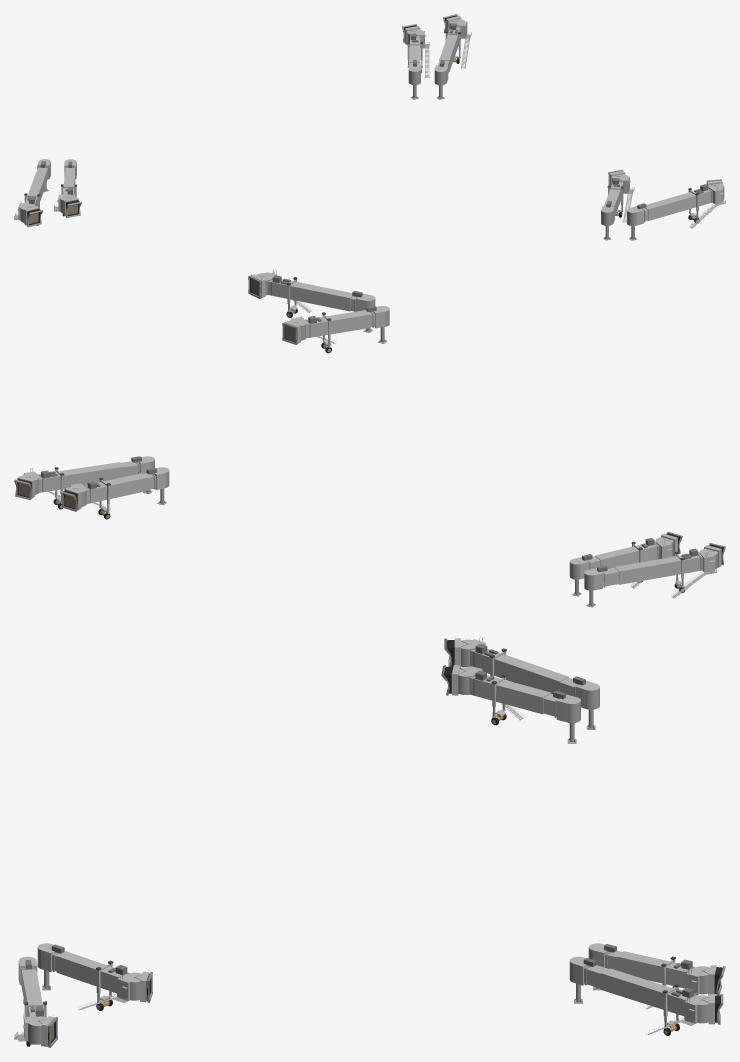
Rendered from AirportJetbridge_L1.fbx.
3 renders of one model, top to bottom at view 1: azimuth 30°, elevation 25°; view 2: azimuth 150°, elevation 25°; view 3: azimuth 270°, elevation 25°, orthographic. The views are drawn at different scales.
Visible parts, largest first — view 1: AirportJetbridge_Long_Model_L1.209, AirportJetbridge_Long_Model_L1.207, AirportJetbridge_Short_Model_L1.209, AirportJetbridge_Short_Model_L1.207, AirportJetbridge_Long_Model_L1.208, AirportJetbridge_Short_Model_L1.208; view 2: AirportJetbridge_Long_Model_L1.208, AirportJetbridge_Long_Model_L1.209, AirportJetbridge_Long_Model_L1.207, AirportJetbridge_Short_Model_L1.207, AirportJetbridge_Short_Model_L1.209, AirportJetbridge_Short_Model_L1.208; view 3: AirportJetbridge_Long_Model_L1.207, AirportJetbridge_Short_Model_L1.208, AirportJetbridge_Long_Model_L1.208, AirportJetbridge_Short_Model_L1.209, AirportJetbridge_Short_Model_L1.207, AirportJetbridge_Long_Model_L1.209.
Part boxes in pixels (x1,y1,x2,y2): AirportJetbridge_Long_Model_L1.209: (627, 179, 725, 240); AirportJetbridge_Long_Model_L1.207: (434, 14, 471, 99); AirportJetbridge_Short_Model_L1.209: (601, 169, 634, 240); AirportJetbridge_Short_Model_L1.207: (402, 24, 429, 99); AirportJetbridge_Long_Model_L1.208: (14, 159, 50, 227); AirportJetbridge_Short_Model_L1.208: (54, 159, 81, 217); AirportJetbridge_Long_Model_L1.208: (584, 543, 725, 607); AirportJetbridge_Long_Model_L1.209: (248, 269, 375, 332); AirportJetbridge_Long_Model_L1.207: (14, 456, 154, 509); AirportJetbridge_Short_Model_L1.207: (60, 467, 169, 519); AirportJetbridge_Short_Model_L1.209: (282, 306, 389, 353); AirportJetbridge_Short_Model_L1.208: (569, 531, 682, 596); AirportJetbridge_Long_Model_L1.207: (569, 956, 723, 1035); AirportJetbridge_Short_Model_L1.208: (441, 663, 580, 743); AirportJetbridge_Long_Model_L1.208: (444, 636, 599, 729); AirportJetbridge_Short_Model_L1.209: (37, 943, 152, 1010); AirportJetbridge_Short_Model_L1.207: (588, 943, 725, 1009); AirportJetbridge_Long_Model_L1.209: (14, 956, 57, 1047).
Bounding box in the file's own units: 145 × 112 × 8.42.
